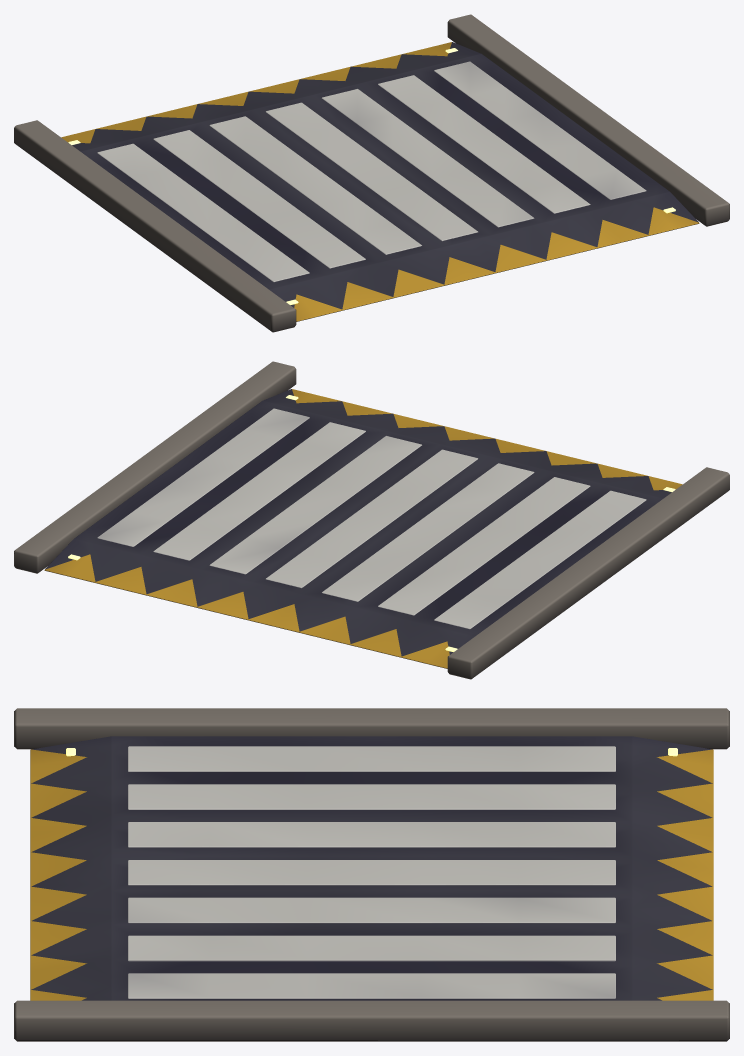
The model's file is passage_pieton.glb.
3 renders of one model, top to bottom at view 1: azimuth 30°, elevation 25°; view 2: azimuth 150°, elevation 25°; view 3: azimuth 270°, elevation 25°, orthographic. The views are drawn at different scales.
Parts seen in each view (by area): view 1: passage_pieton; view 2: passage_pieton; view 3: passage_pieton.
Boxes of the visible parts, x1,y1,x2,y2 form: passage_pieton: (14,14,729,332); passage_pieton: (14,361,729,679); passage_pieton: (14,708,729,1041).
Size of the model in its own units: 4.5 by 0.18 by 4.4.
